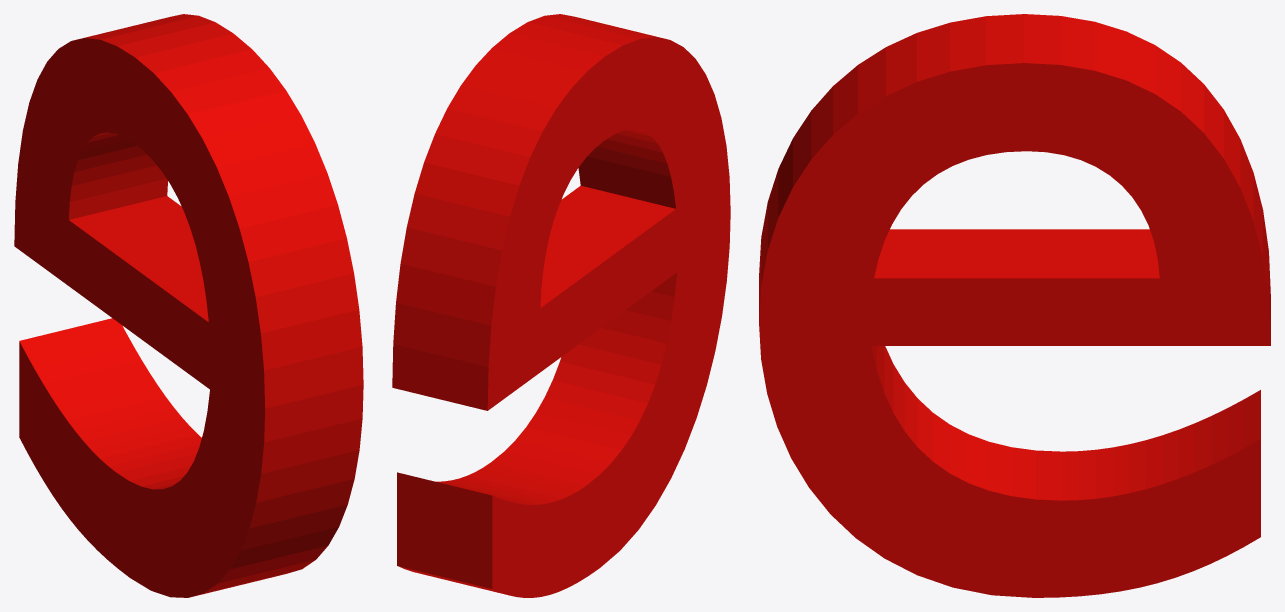
File: letter(e).fbx
The picture shows the model from 3 angles, left to right: view 1: azimuth 30°, elevation 25°; view 2: azimuth 150°, elevation 25°; view 3: azimuth 270°, elevation 25°; orthographic projection. The views are drawn at different scales.
Visible parts, largest first — view 1: Text; view 2: Text; view 3: Text.
Part boxes in pixels (bbox=[...]): Text: bbox=[14, 14, 363, 597]; Text: bbox=[392, 14, 730, 597]; Text: bbox=[759, 14, 1270, 597].
Size of the model in its own units: 9.18 by 46.7 by 40.5.
